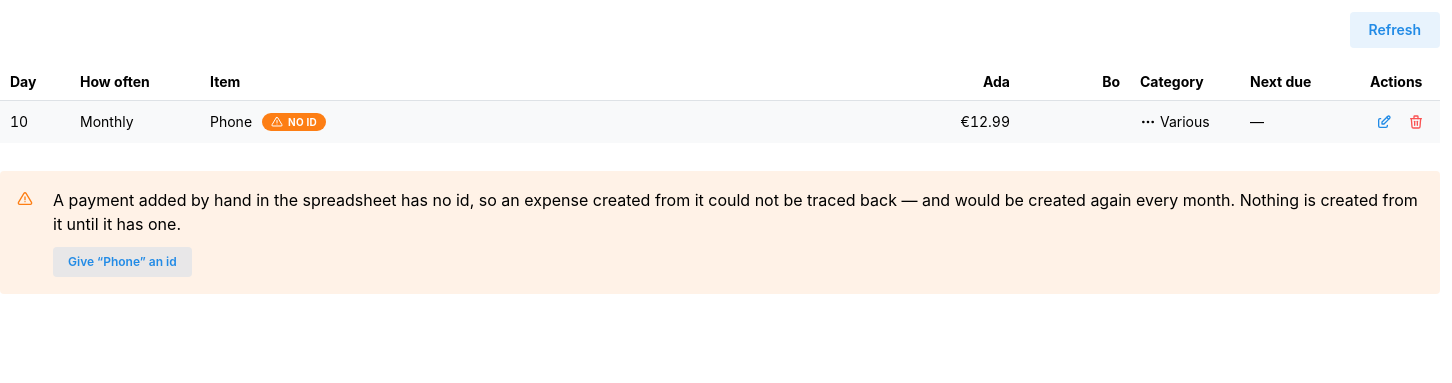
a rule with no id › surfaces a failed id assignment instead of swallowing it
The image size is (1452, 383).
Click the button "Give “Phone” an id" at x=122, y=262, box x1=53 y1=247 x2=192 y2=277
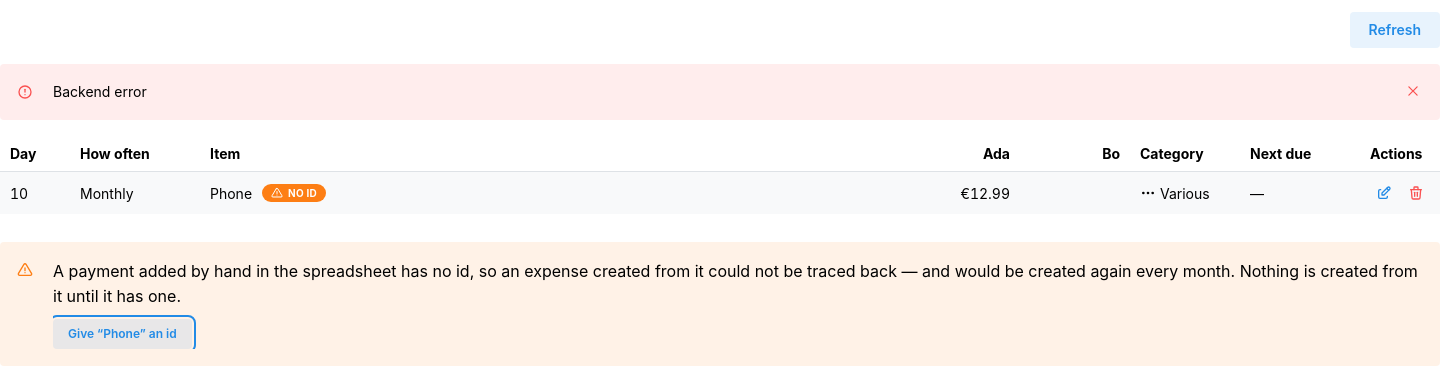
Expected: the text "Backend error" is shown, x1=53 y1=83 x2=147 y2=100
